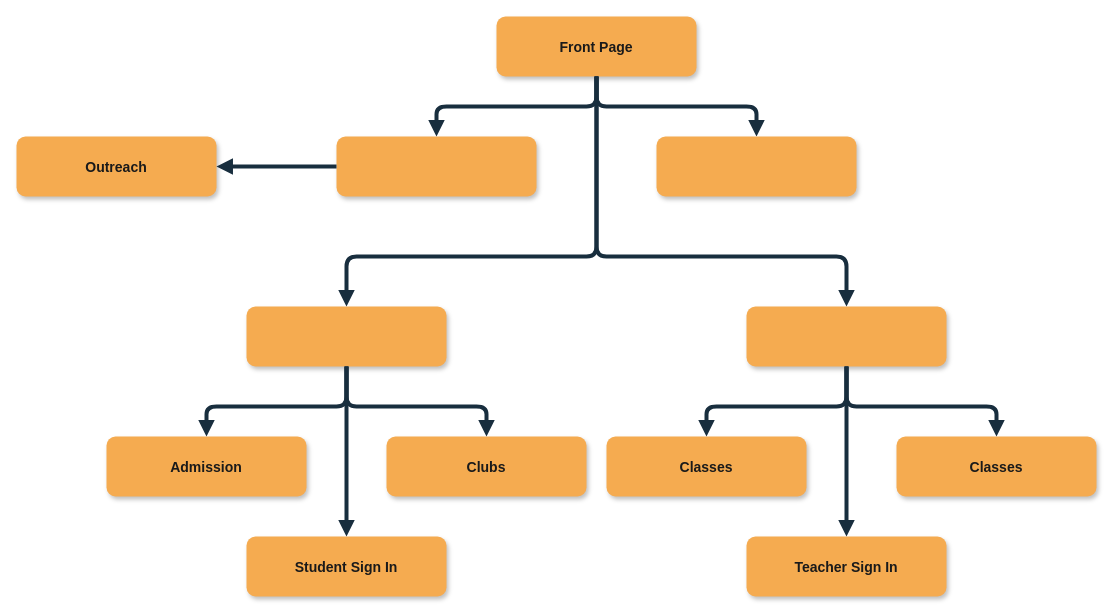
Image size: 1113x613. Some labels were removed from this diagram. The centre of each missing label's shape, as x and y in pixels:
Community: point (757, 167)
Events: point (437, 167)
Students: point (347, 337)
Teachers & Staff: point (847, 337)
